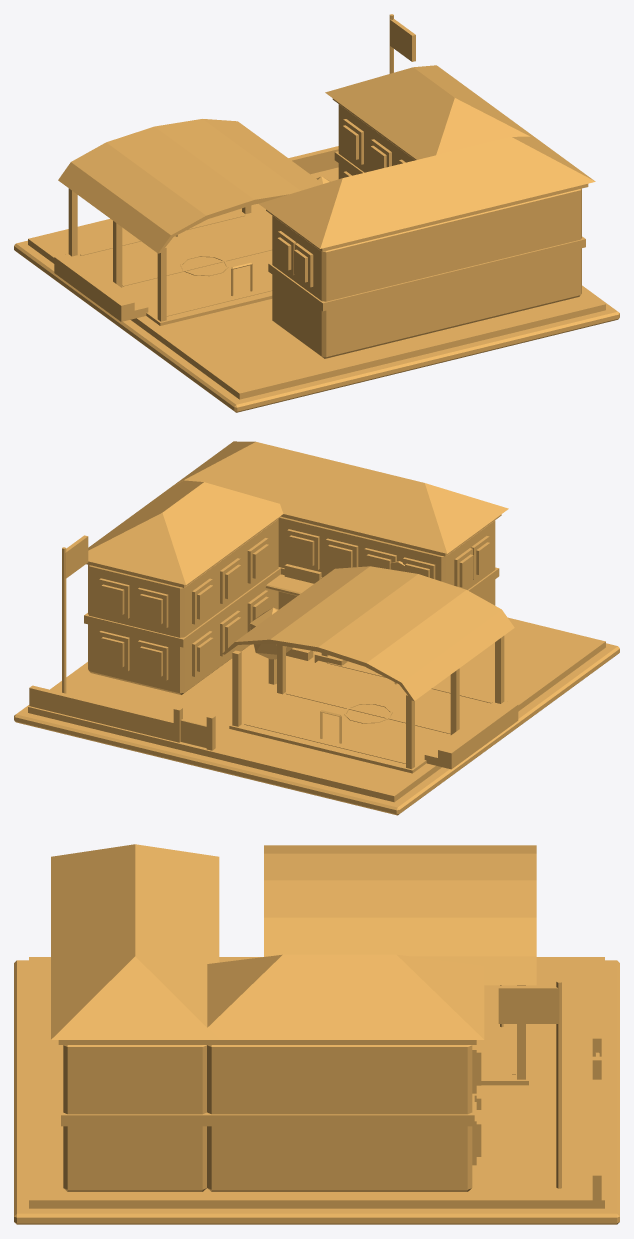
3 renders of one model, top to bottom at view 1: azimuth 30°, elevation 25°; view 2: azimuth 150°, elevation 25°; view 3: azimuth 270°, elevation 25°, orthographic. The views are drawn at different scales.
Parts seen in each view (by area): view 1: corpo; view 2: corpo; view 3: corpo.
Boxes of the visible parts, x1,y1,x2,y2 form: corpo: (14,14,619,412); corpo: (14,441,619,815); corpo: (14,844,619,1224).
Size of the model in its own units: 4.06 by 1.65 by 4.
